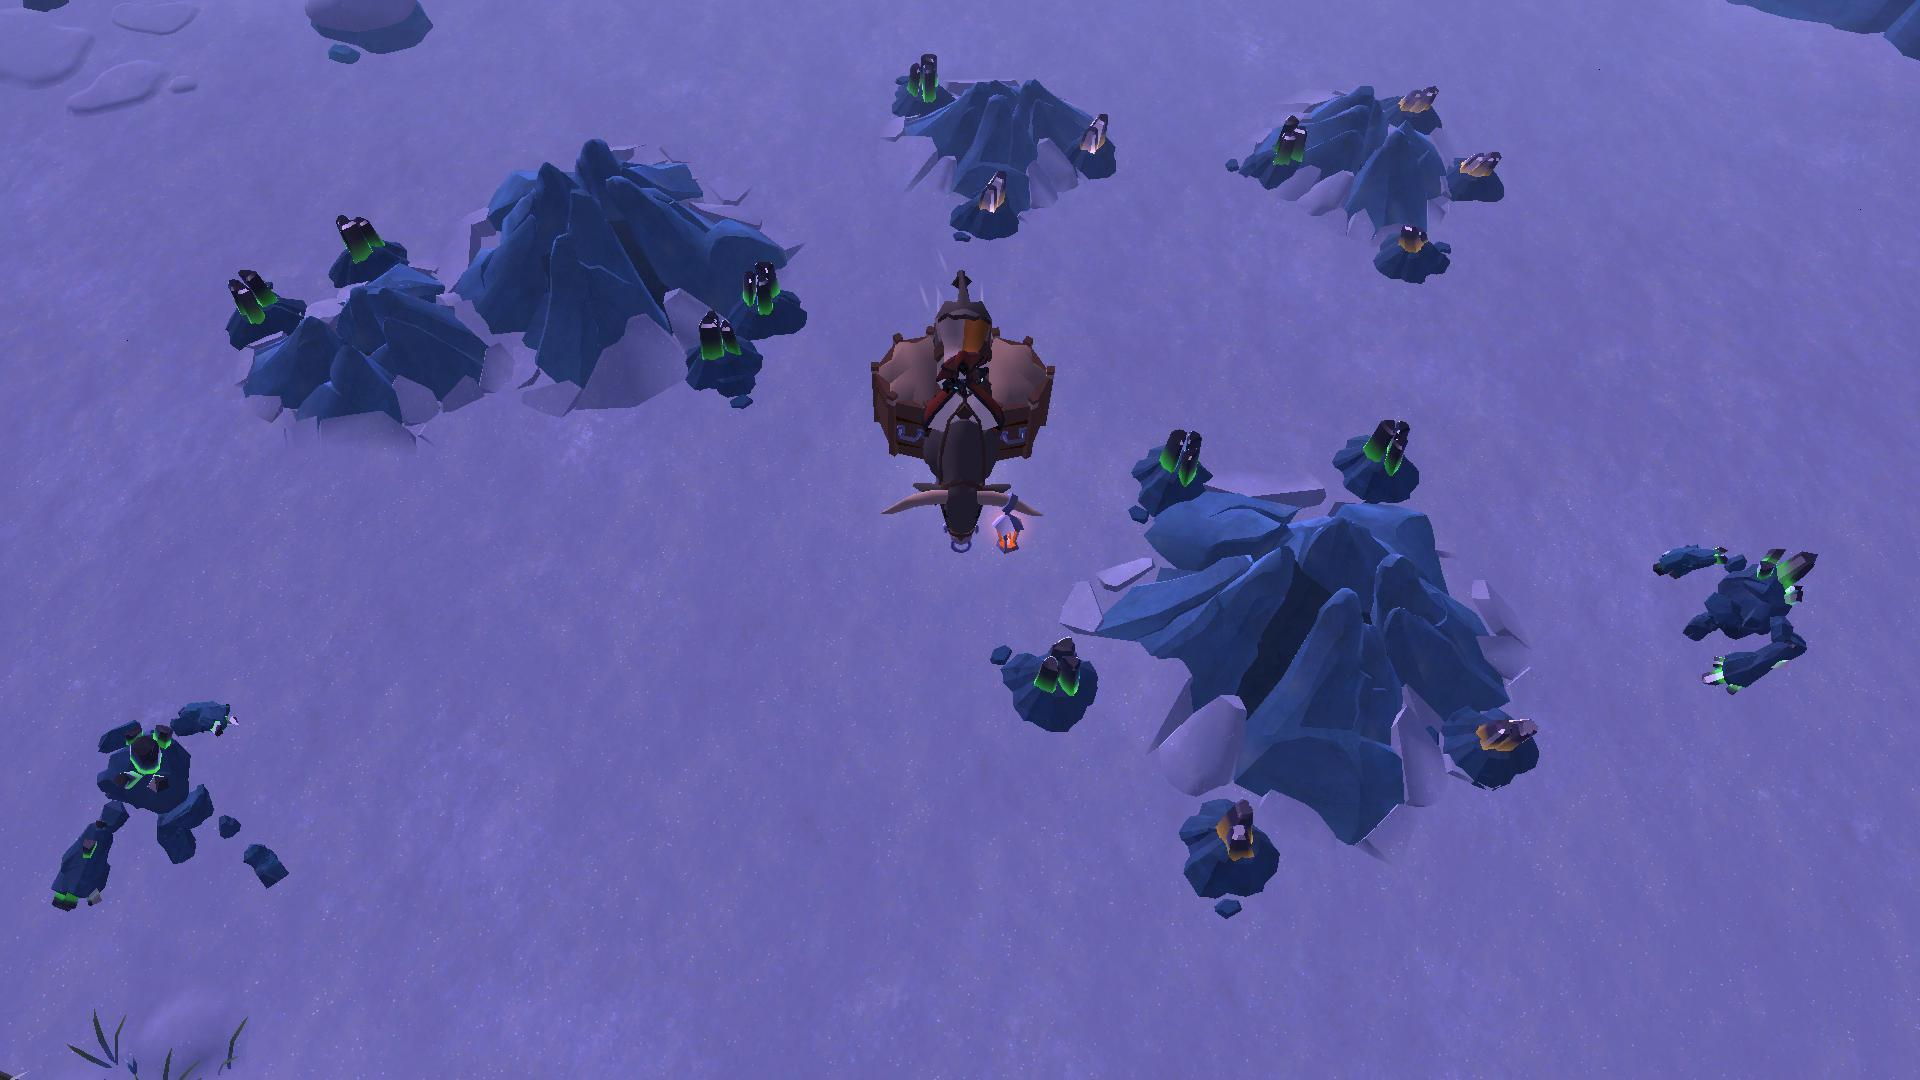ore_t3: (224, 260, 284, 334), (1033, 626, 1084, 704), (1354, 417, 1416, 479), (326, 208, 389, 269), (1151, 422, 1205, 488), (688, 303, 744, 363), (899, 42, 943, 116), (735, 257, 782, 320), (1267, 109, 1311, 164)
